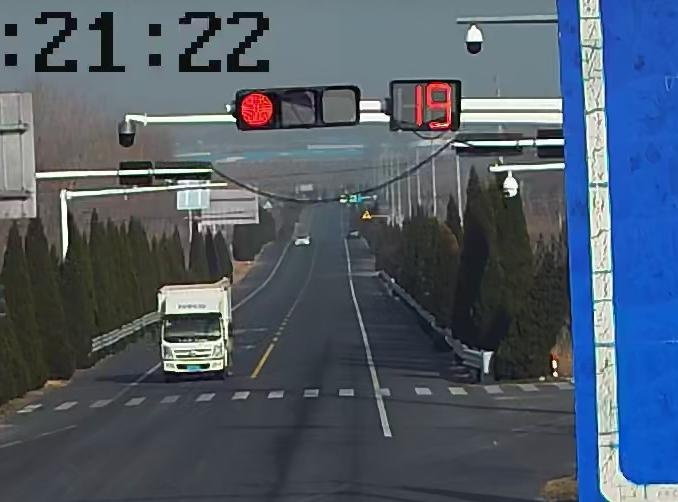red: (238, 91, 278, 129)
redtime: (412, 80, 453, 130)
